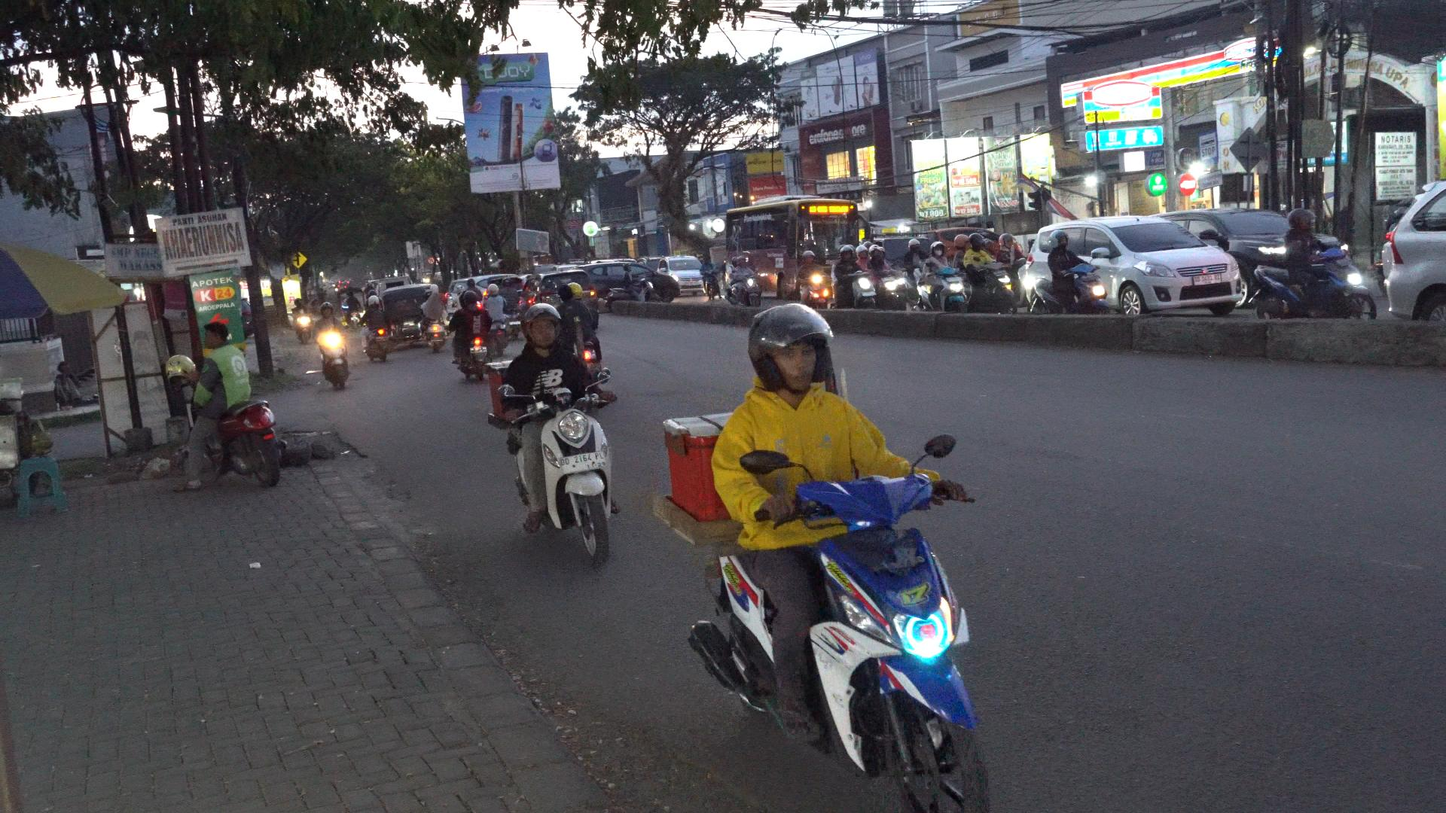number-plate: (560, 451, 608, 474)
